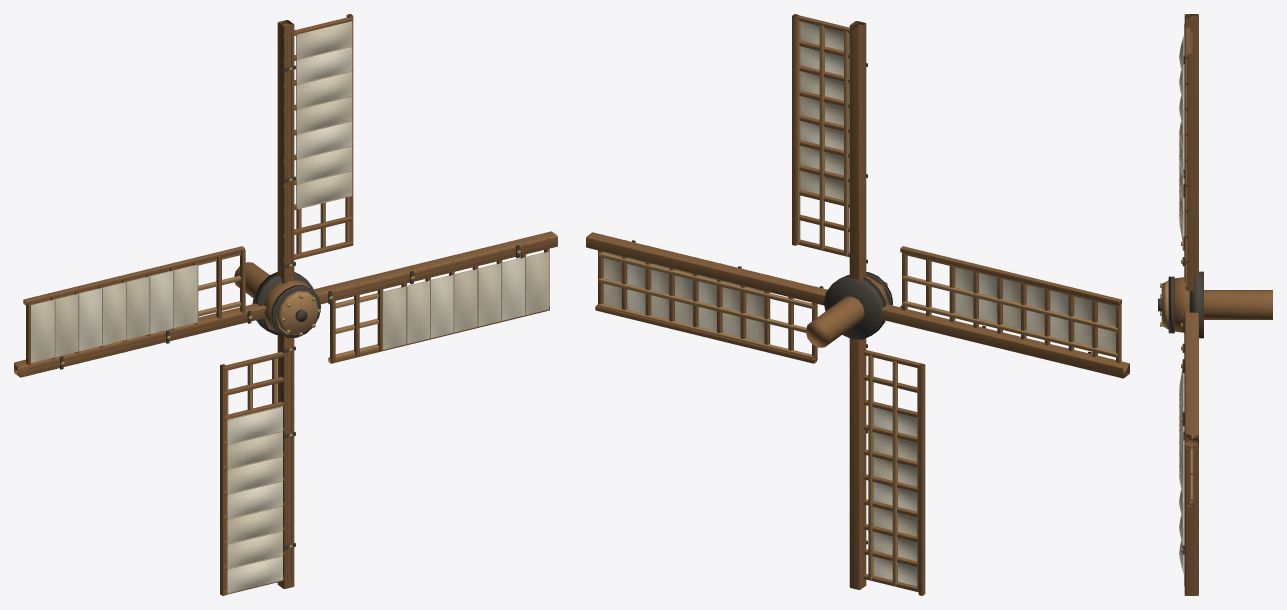
Rendered from molen_wieken.glb.
3 views of the same model, side by side, from view 1: azimuth 30°, elevation 25°; view 2: azimuth 150°, elevation 25°; view 3: azimuth 270°, elevation 25° (orthographic). The views are drawn at different scales.
Parts seen in each view (by area): view 1: Wiek_1_hoofdroede, Wiek_4_hoofdroede, Wiek_2_hoofdroede, Wiek_3_hoofdroede, Wiek_3_buitenrand, Wiek_2_buitenrand, Wiek_1_zeilvak_8, Wiek_4_zeilvak_6, Wiek_2_zeilvak_3, Wiek_2_zeilvak_8, Wiek_4_zeilvak_5, Wiek_2_zeilvak_2 (+24 smaller); view 2: Wiek_1_hoofdroede, Wiek_3_hoofdroede, Wiek_2_hoofdroede, Wiek_4_hoofdroede, Achterring, Wiek_3_buitenrand, Houten_as, Wiek_2_buitenrand, Wiek_3_langslat_1, Wiek_1_langslat_1, Wiek_3_langslat_0, Wiek_1_langslat_0 (+36 smaller); view 3: Wiek_1_hoofdroede, Houten_as, Wiek_4_hoofdroede, Wiek_3_hoofdroede, Wiek_1_buitenrand, Achtkantige_naaf, Achterring, Voorste_ijzeren_band, Houten_naafdop, Wiek_4_dwarslat_9, Wiek_4_zeilvak_8, Wiek_1_nerf_1 (+1 smaller).
Part boxes in pixels (<box>): Wiek_1_hoofdroede: <box>277,20,294,283</box>; Wiek_4_hoofdroede: <box>313,231,557,304</box>; Wiek_2_hoofdroede: <box>14,303,266,377</box>; Wiek_3_hoofdroede: <box>277,335,294,588</box>; Wiek_3_buitenrand: <box>220,364,226,595</box>; Wiek_2_buitenrand: <box>23,246,244,305</box>; Wiek_1_zeilvak_8: <box>297,21,352,59</box>; Wiek_4_zeilvak_6: <box>477,263,501,326</box>; Wiek_2_zeilvak_3: <box>149,270,173,333</box>; Wiek_2_zeilvak_8: <box>31,299,54,362</box>; Wiek_4_zeilvak_5: <box>454,269,477,332</box>; Wiek_2_zeilvak_2: <box>173,265,197,327</box>; Wiek_1_hoofdroede: <box>849,21,866,280</box>; Wiek_3_hoofdroede: <box>849,338,866,589</box>; Wiek_2_hoofdroede: <box>882,304,1129,378</box>; Wiek_4_hoofdroede: <box>586,232,827,305</box>; Achterring: <box>824,275,885,339</box>; Wiek_3_buitenrand: <box>918,364,925,595</box>; Houten_as: <box>805,296,864,347</box>; Wiek_2_buitenrand: <box>900,246,1121,305</box>; Wiek_3_langslat_1: <box>892,360,897,585</box>; Wiek_1_langslat_1: <box>819,24,824,249</box>; Wiek_3_langslat_0: <box>868,355,873,579</box>; Wiek_1_langslat_0: <box>844,30,849,255</box>; Wiek_1_hoofdroede: <box>1184,14,1198,281</box>; Houten_as: <box>1204,290,1272,319</box>; Wiek_4_hoofdroede: <box>1184,310,1198,445</box>; Wiek_3_hoofdroede: <box>1184,444,1198,595</box>; Wiek_1_buitenrand: <box>1187,54,1193,291</box>; Achtkantige_naaf: <box>1174,277,1189,332</box>; Achterring: <box>1189,271,1203,338</box>; Voorste_ijzeren_band: <box>1168,276,1174,333</box>; Houten_naafdop: <box>1161,280,1168,329</box>; Wiek_4_dwarslat_9: <box>1185,428,1190,503</box>; Wiek_4_zeilvak_8: <box>1179,432,1183,499</box>; Wiek_1_nerf_1: <box>1184,26,1184,260</box>.
Bounding box in the file's own units: 5.72 × 5.72 × 1.03.
